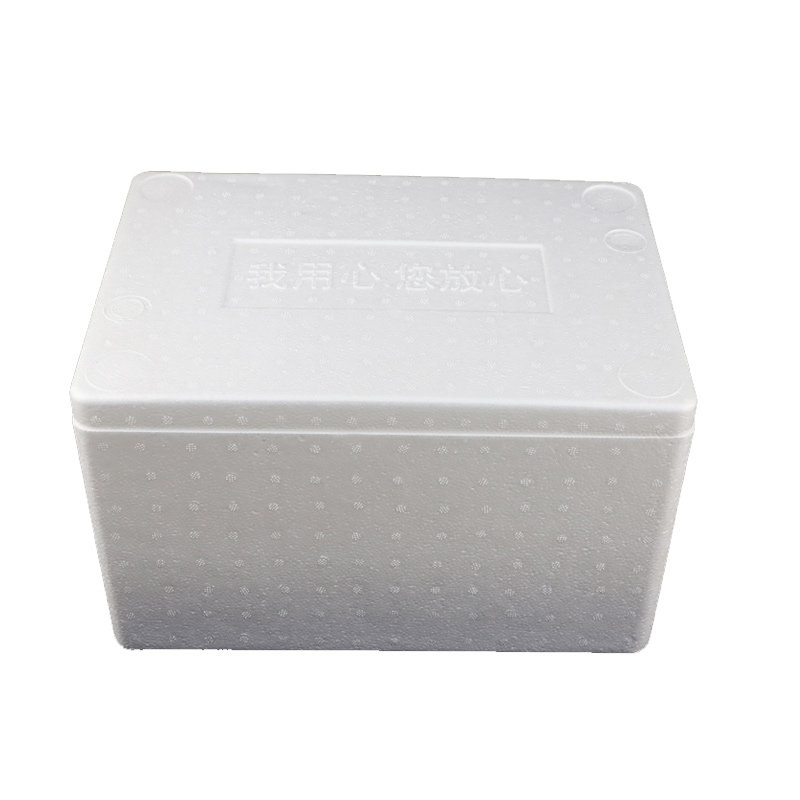Boxes: (72, 172, 695, 652)
